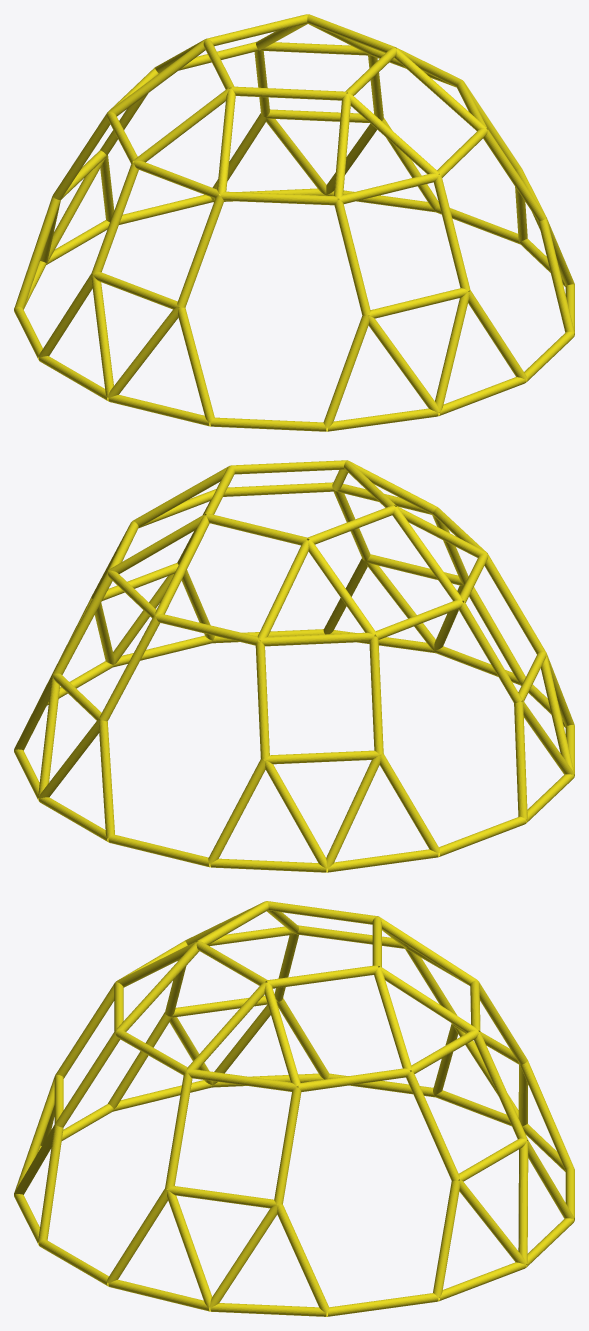
Rendered from trinexus3_1a.glb.
3 views of the same model, one above another, from view 1: azimuth 30°, elevation 25°; view 2: azimuth 150°, elevation 25°; view 3: azimuth 270°, elevation 25° (orthographic).
Parts seen in each view (by area): view 1: Mesh_47; view 2: Mesh_47; view 3: Mesh_47.
Boxes of the visible parts, x1,y1,x2,y2 form: Mesh_47: (14,14,574,431); Mesh_47: (14,460,574,872); Mesh_47: (14,901,574,1316).
Size of the model in its own units: 7.29 by 3.68 by 7.25.
